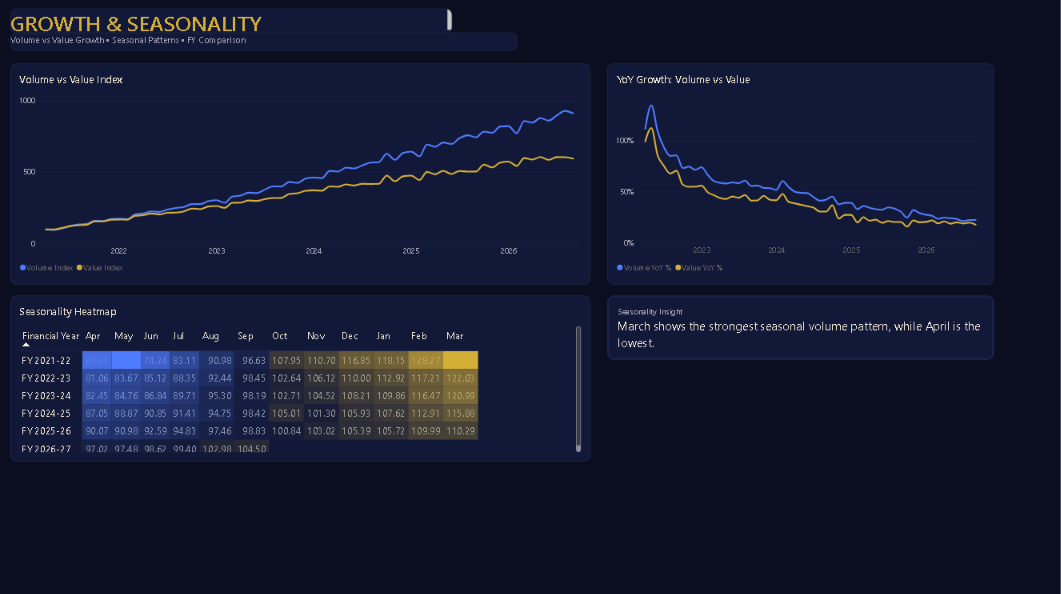

The dashboard page shown, as its layout file describes it:
{"tool":"powerbi","page":{"name":"Growth & Seasonality","canvas":[1920,1080],"ordinal":1},"visuals":[{"type":"lineChart","title":"Volume vs Value Index","fields":{"Category":["DimDate.Date"],"Y":["_Measures.Volume Index","_Measures.Value Index"]},"box":[20,120,1050,400],"z":0},{"type":"lineChart","title":"YoY Growth: Volume vs Value","fields":{"Category":["DimDate.Date"],"Y":["_Measures.Volume YoY %","_Measures.Value YoY %"]},"box":[1100,120,700,400],"z":1000},{"type":"pivotTable","title":" Seasonality Heatmap","fields":{"Columns":["DimDate.Month Name"],"Rows":["DimDate.Financial Year"],"Values":["_Measures.Seasonality Index"]},"box":[20,540,1050,300],"z":2000},{"type":"cardVisual","fields":{"Data":["_Measures.Seasonality Insight"]},"box":[1100,540,700,116],"z":3000},{"type":"textbox","box":[20,20,800,45],"z":4000},{"type":"textbox","box":[20,62.5,917.5,32.5],"z":5000}]}

Visuals, with their boxes in screenshot pixels (x1, y1, x2, y2), scaled from the page's 1920x1080 canvas onto the 1061x594 screenshot:
"Volume vs Value Index" lineChart: <box>11,66,591,286</box>
"YoY Growth: Volume vs Value" lineChart: <box>608,66,995,286</box>
" Seasonality Heatmap" pivotTable: <box>11,297,591,462</box>
cardVisual - _Measures.Seasonality Insight: <box>608,297,995,361</box>
textbox: <box>11,11,453,36</box>
textbox: <box>11,34,518,52</box>
